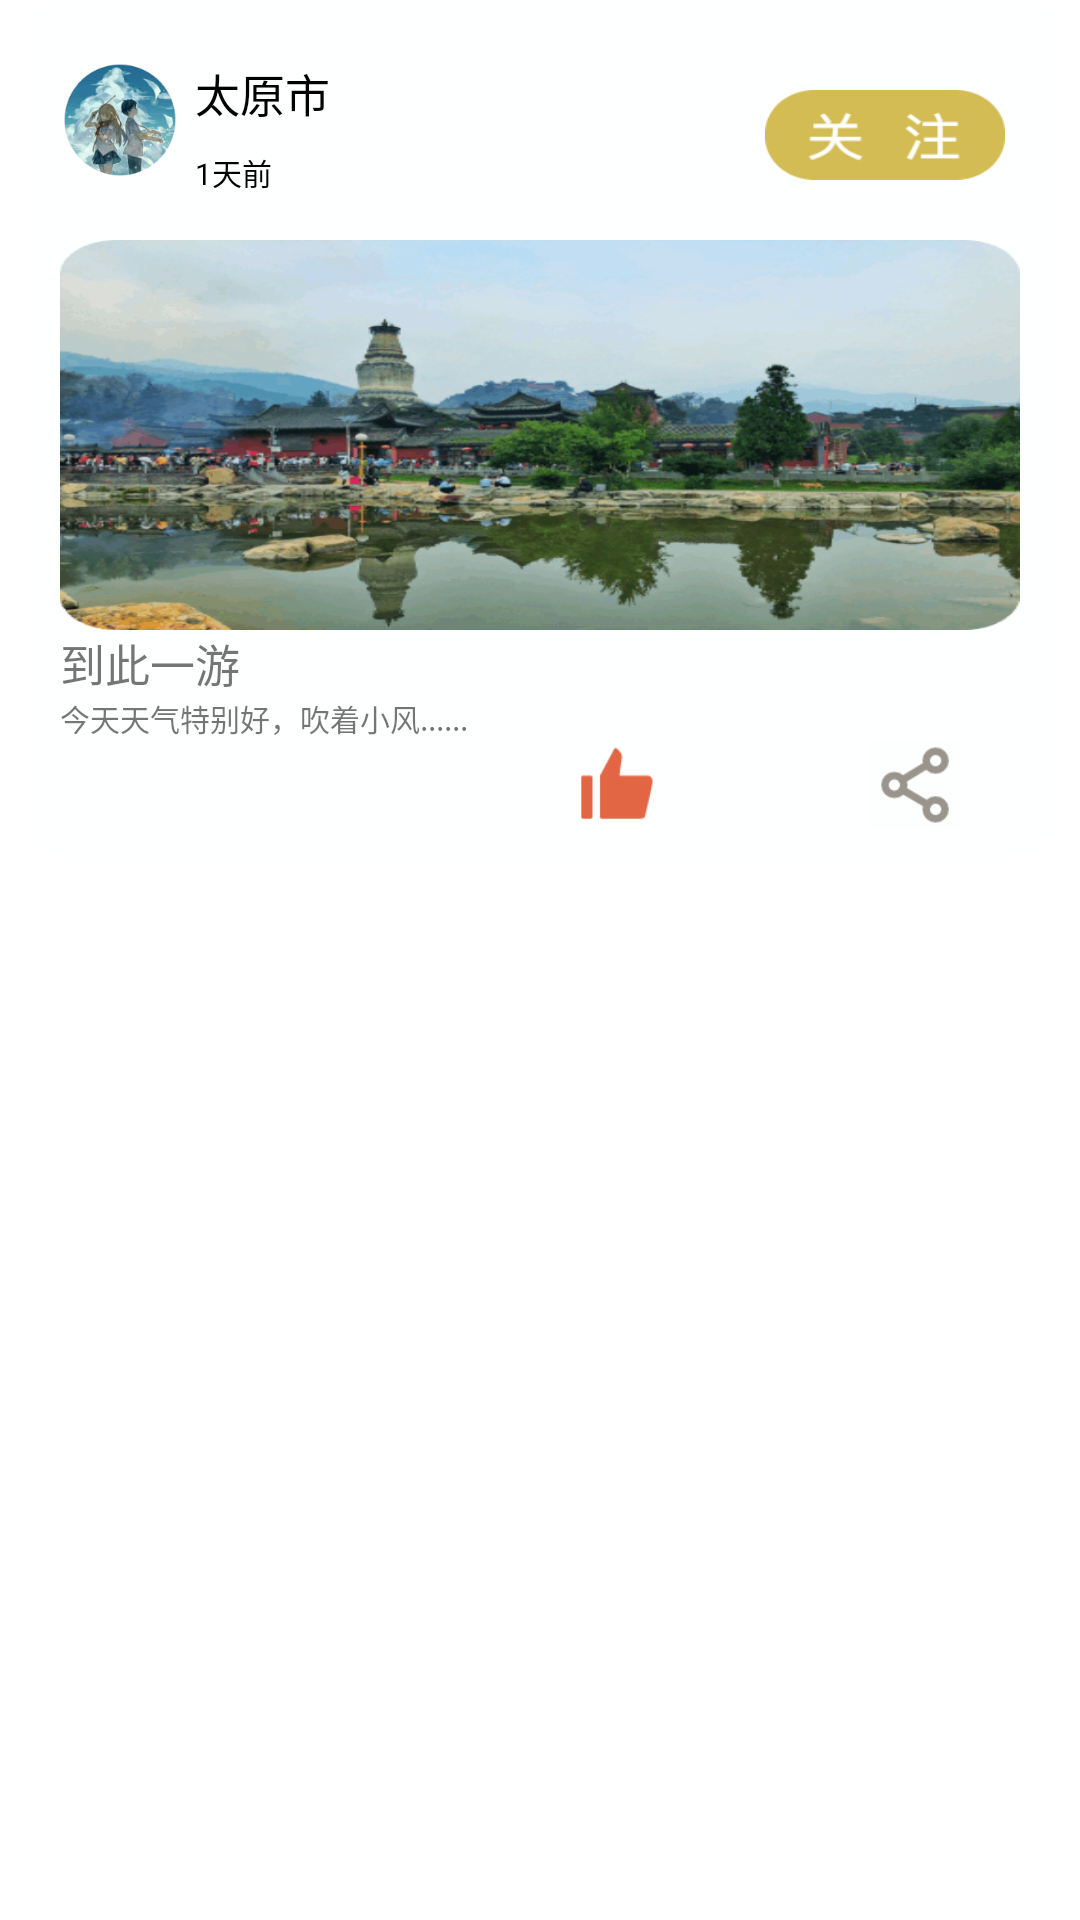

Icon click points for this 1080px×1920px phone screenshot, format (x=x, y=y):
appreciate: (x=617, y=783)
share: (x=915, y=785)
